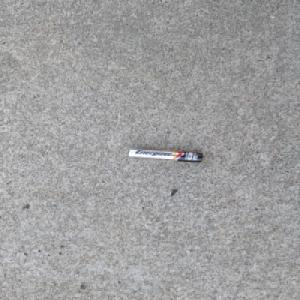Battery: (125, 147, 204, 164)
